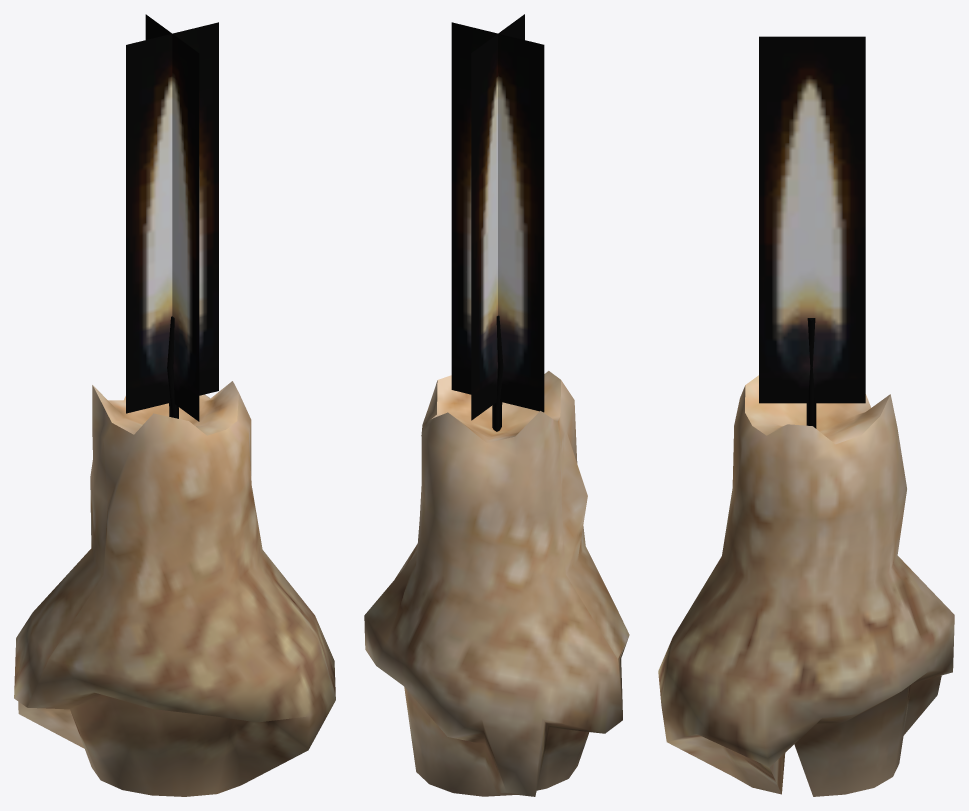
Rendered from candle01_fire.fbx.
3 views of the same model, side by side, from view 1: azimuth 30°, elevation 25°; view 2: azimuth 150°, elevation 25°; view 3: azimuth 270°, elevation 25° (orthographic).
Visible parts, largest first — view 1: candle01_fire, candle01; view 2: candle01_fire, candle01; view 3: candle01_fire, candle01.
Boxes of the visible parts, x1=… form: candle01_fire: x1=14, y1=316, x2=335, y2=796; candle01: x1=126, y1=14, x2=218, y2=421; candle01_fire: x1=364, y1=315, x2=629, y2=796; candle01: x1=451, y1=14, x2=544, y2=420; candle01_fire: x1=658, y1=318, x2=954, y2=796; candle01: x1=759, y1=36, x2=865, y2=403.
Bounding box in the file's own units: 23.24 × 59.27 × 21.93.
Materials: 2 (2 with a texture image).
